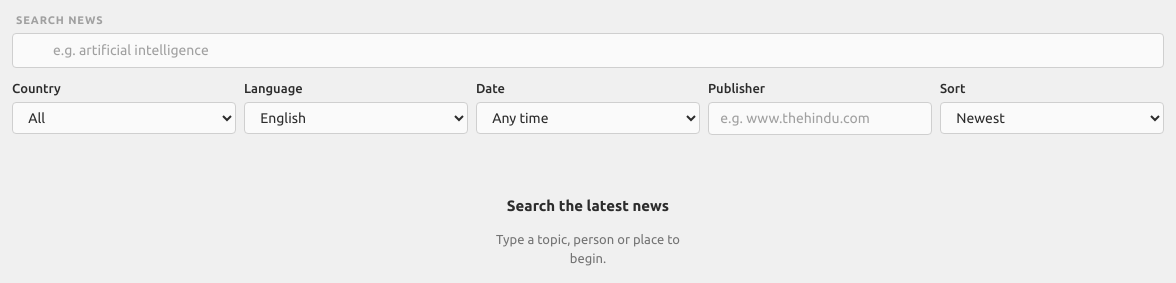
Test: NewsSearchTabComponent › debounces typing into a single request
In the search field with test id "news-search-input": (588, 50) [12,32,1164,68], type "a"
Wait 100 ms
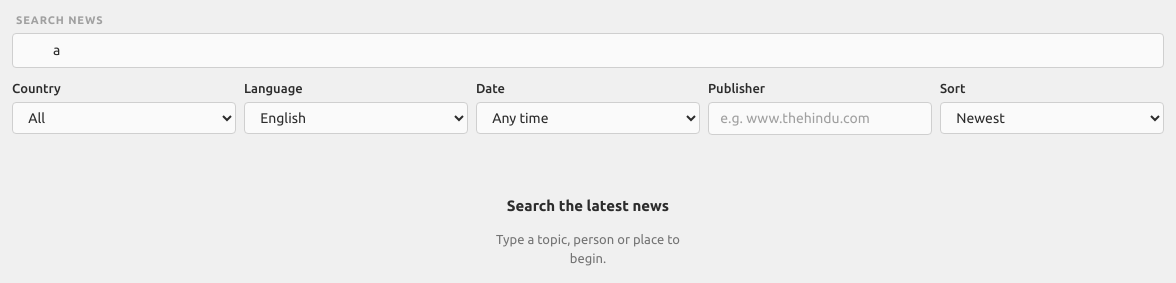
Replace the text in the search field with test id "news-search-input" with "ai": (588, 50) [12,32,1164,68]
Wait 100 ms
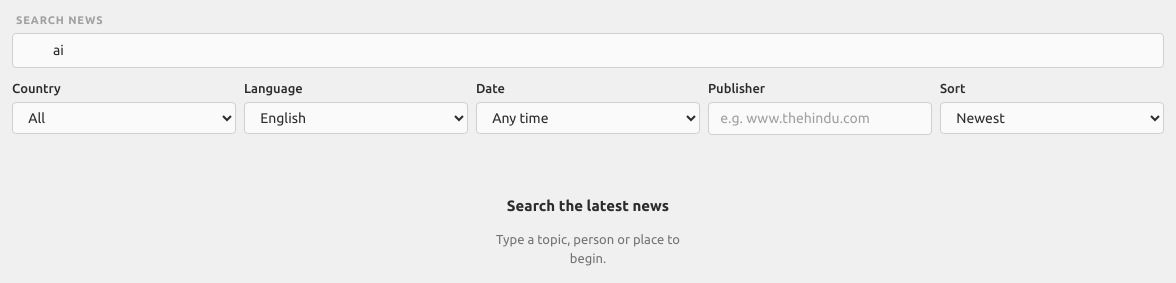
Replace the text in the search field with test id "news-search-input" with "ai news": (588, 50) [12,32,1164,68]
Wait 400 ms
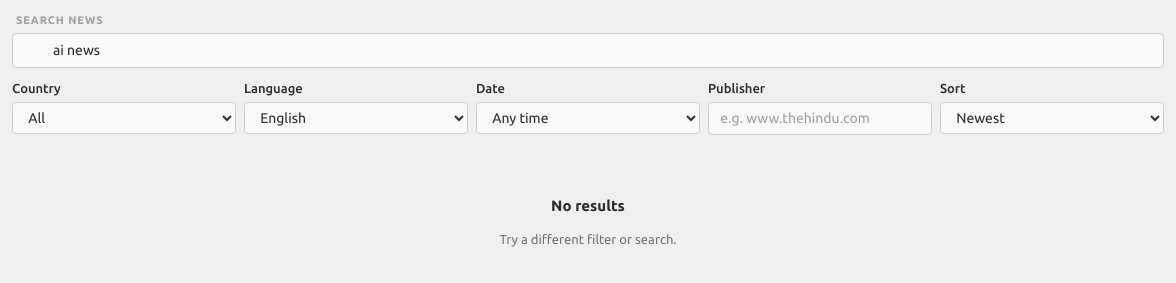
Expected: the text "No results" is shown, [551,195,625,218]
